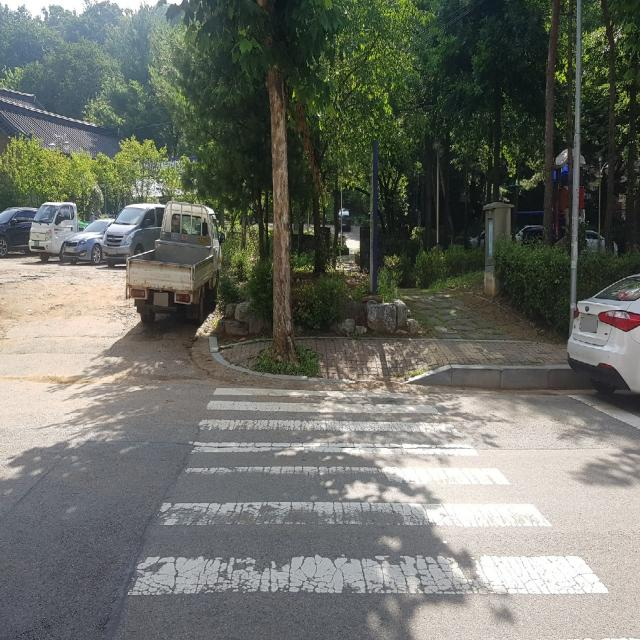횡단보도: (123, 382, 640, 640)
